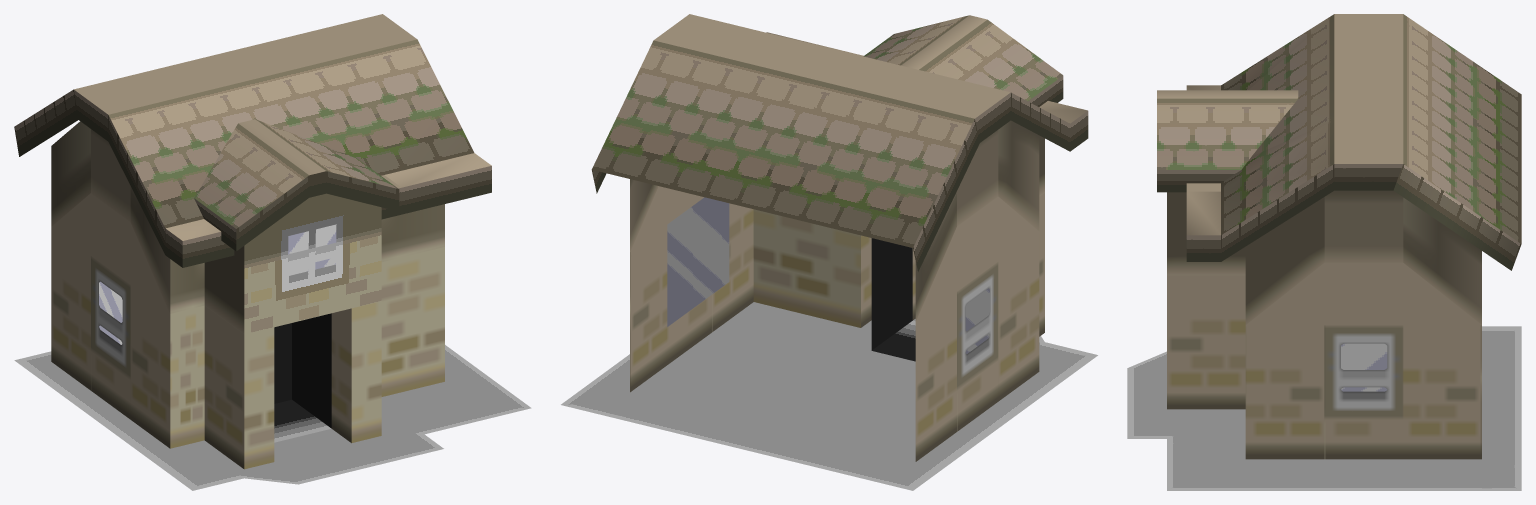
3 renders of one model, left to right at view 1: azimuth 30°, elevation 25°; view 2: azimuth 150°, elevation 25°; view 3: azimuth 270°, elevation 25°, orthographic. The views are drawn at different scales.
Visible parts, largest first — view 1: polygon0, polygon2, polygon5, polygon3, polygon4, polygon1; view 2: polygon0, polygon2, polygon5, polygon1, polygon4; view 3: polygon2, polygon0, polygon5, polygon1.
Part boxes in pixels (box(x1,y1,x2,y2)): polygon0: box(14, 14, 491, 267); polygon2: box(51, 121, 444, 469); polygon5: box(14, 345, 531, 490); polygon3: box(244, 193, 381, 334); polygon4: box(274, 313, 331, 442); polygon1: box(99, 224, 336, 344); polygon0: box(591, 14, 1088, 271); polygon2: box(630, 120, 1044, 461); polygon5: box(561, 302, 1097, 490); polygon1: box(667, 197, 989, 353); polygon4: box(871, 238, 915, 361); polygon2: box(1167, 190, 1481, 459); polygon0: box(1157, 14, 1521, 270); polygon5: box(1127, 326, 1521, 490); polygon1: box(1341, 343, 1387, 391).
Size of the model in its own units: 4.94 by 4.38 by 5.
